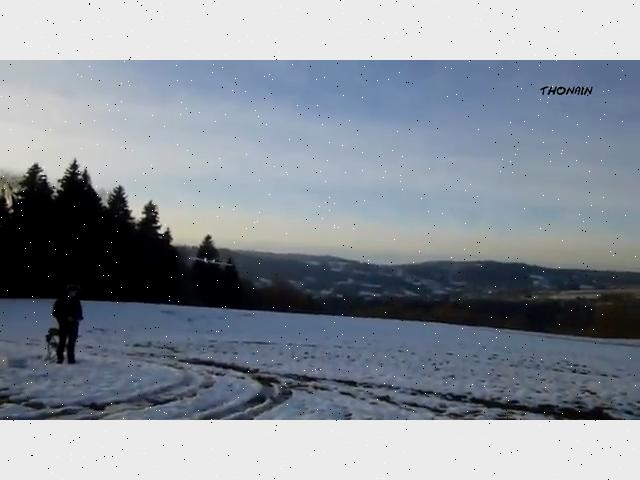Anti-Drone: (188, 258, 232, 266)
